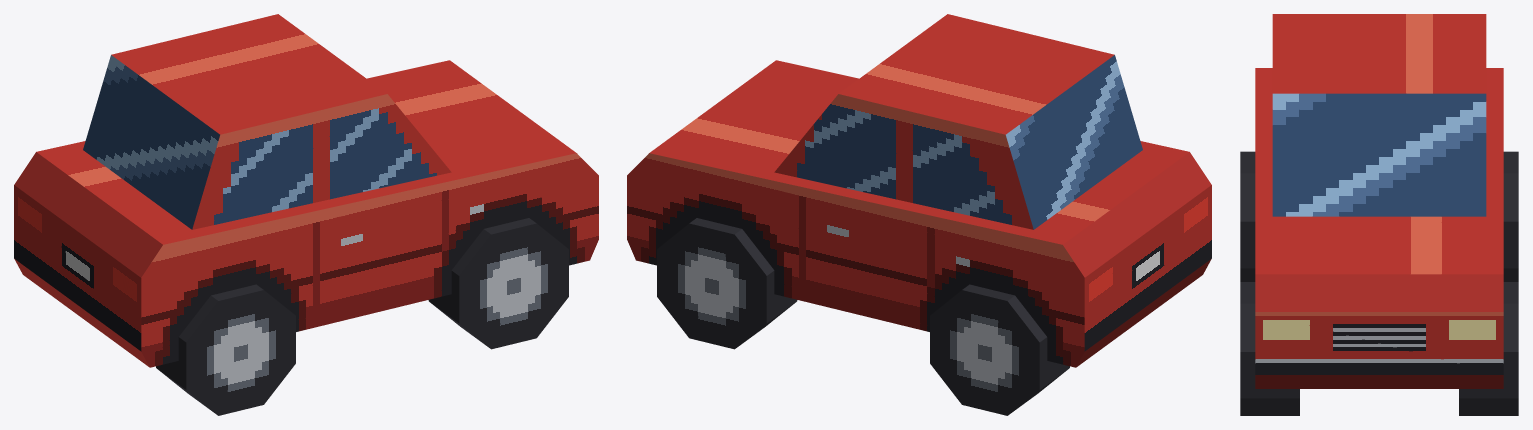
The model's file is around-car.glb.
3 renders of one model, left to right at view 1: azimuth 30°, elevation 25°; view 2: azimuth 150°, elevation 25°; view 3: azimuth 270°, elevation 25°, orthographic. The views are drawn at different scales.
Parts seen in each view (by area): view 1: around.car; view 2: around.car; view 3: around.car.
Part boxes in pixels (bbox=[...]): around.car: bbox=[14, 14, 598, 415]; around.car: bbox=[627, 14, 1211, 415]; around.car: bbox=[1240, 14, 1518, 415].
Bounding box in the file's own units: 1.76 × 0.9743 × 0.9494.
Materials: 9 (7 with a texture image).
